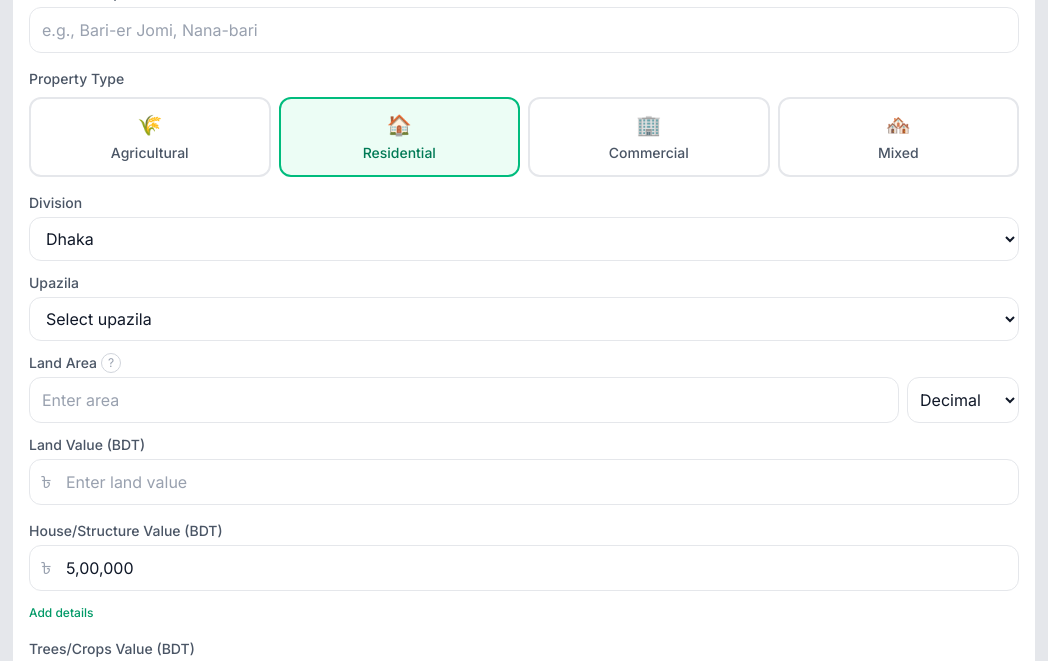
Scenario: PROP-03: House/structure details › expanding details shows construction type, floors, condition fields
# Click "Add details" to expand house detail section
Click the button "Add details": (61, 613) [29, 605, 93, 621]
(page scrolled)
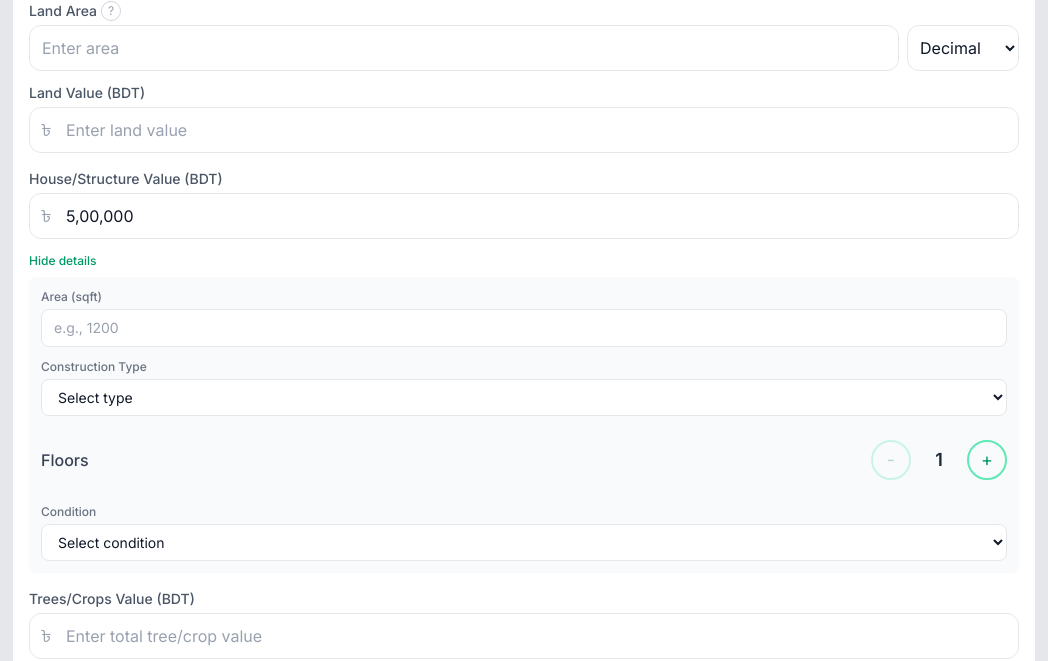
Result: the text "Construction Type" is shown at [41, 359, 147, 374]
Result: the text "Floors" is shown at [41, 448, 89, 472]
Result: the text "Condition" is shown at [41, 504, 96, 519]
